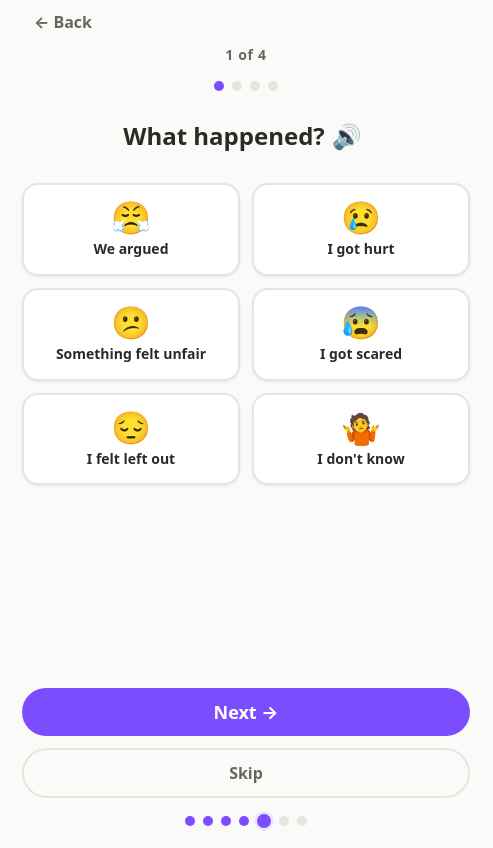
it: Reflection › can select an option and advance with Next
Step 1. Click the button "😤 We argued" → {"x": 131, "y": 229}, box 22,183 -> 240,276
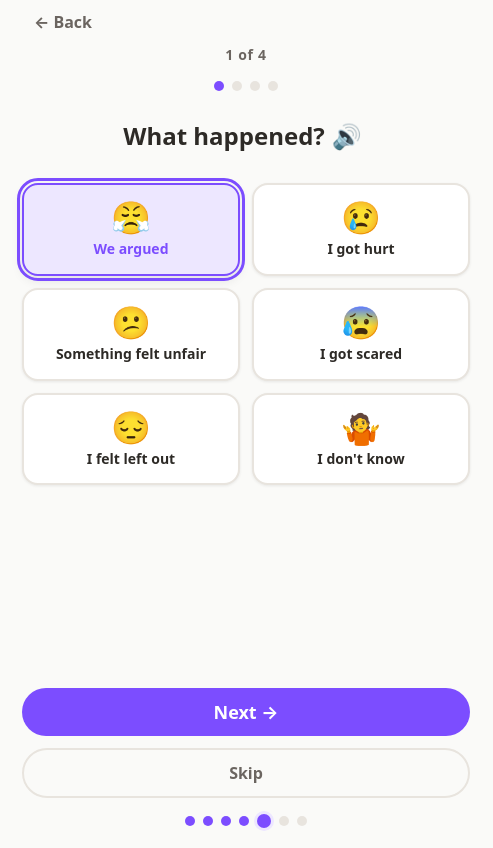
Now the button "😤 We argued" is pressed, box 22,183 -> 240,276
Step 2. Click the button "Next →" → {"x": 246, "y": 712}, box 22,688 -> 470,736
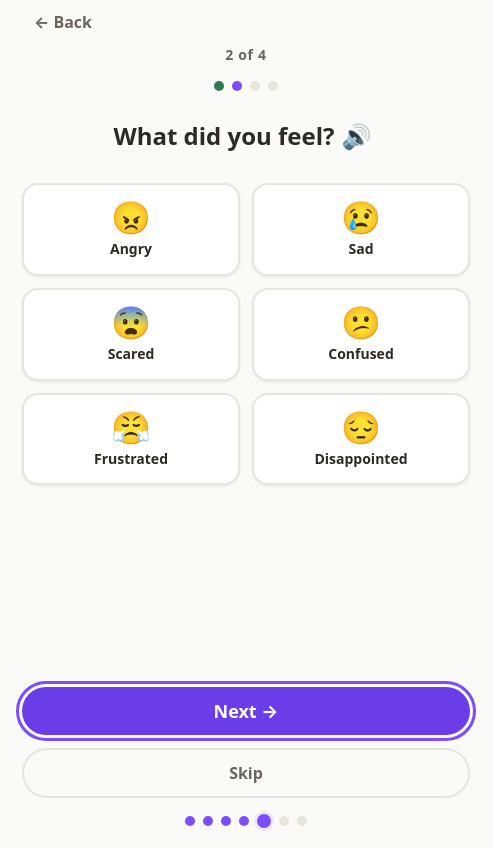
Now the heading "What did you feel? 🔊" is shown, box 114,115 -> 378,159
